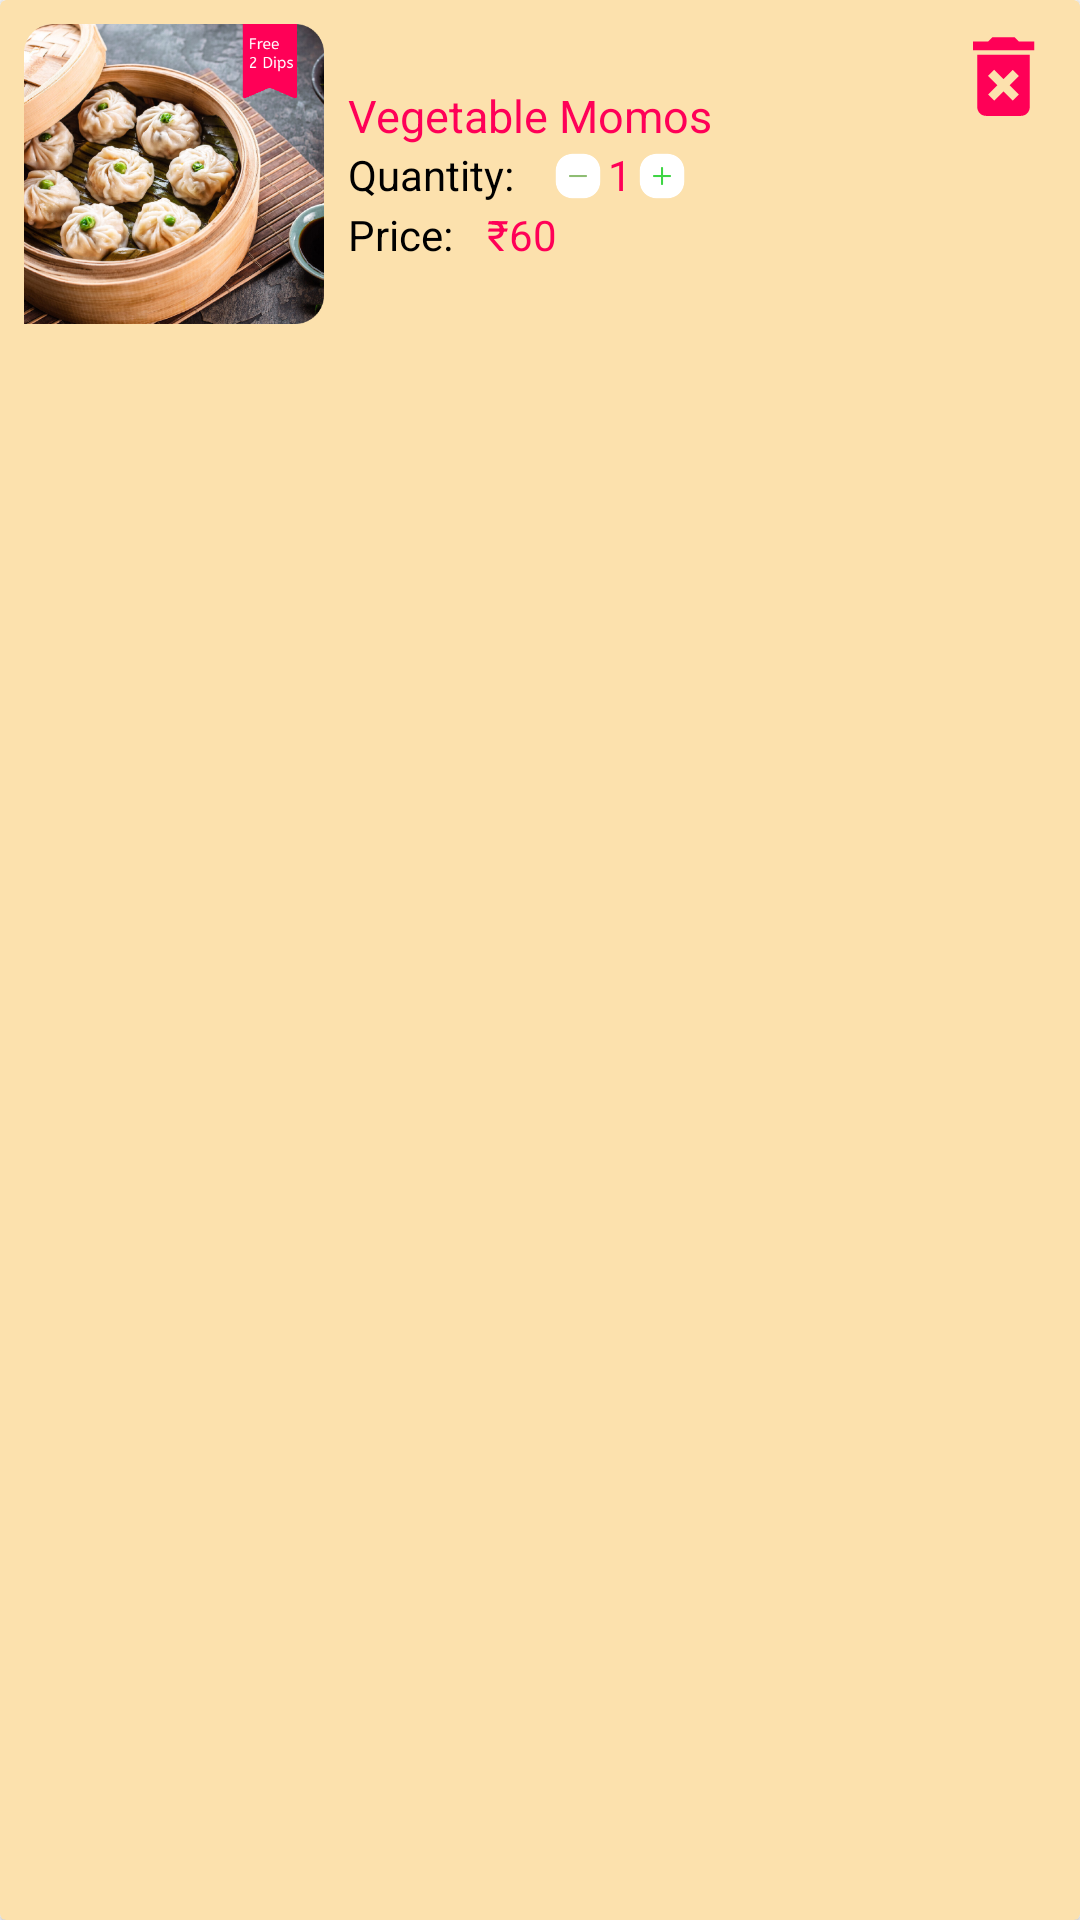

Named icons in this screenshot (1080×1920) and their bounding boxes, (x1, y1, x2, y2):
delete: (973, 37, 1035, 116)
popularfood: (24, 24, 324, 324)
